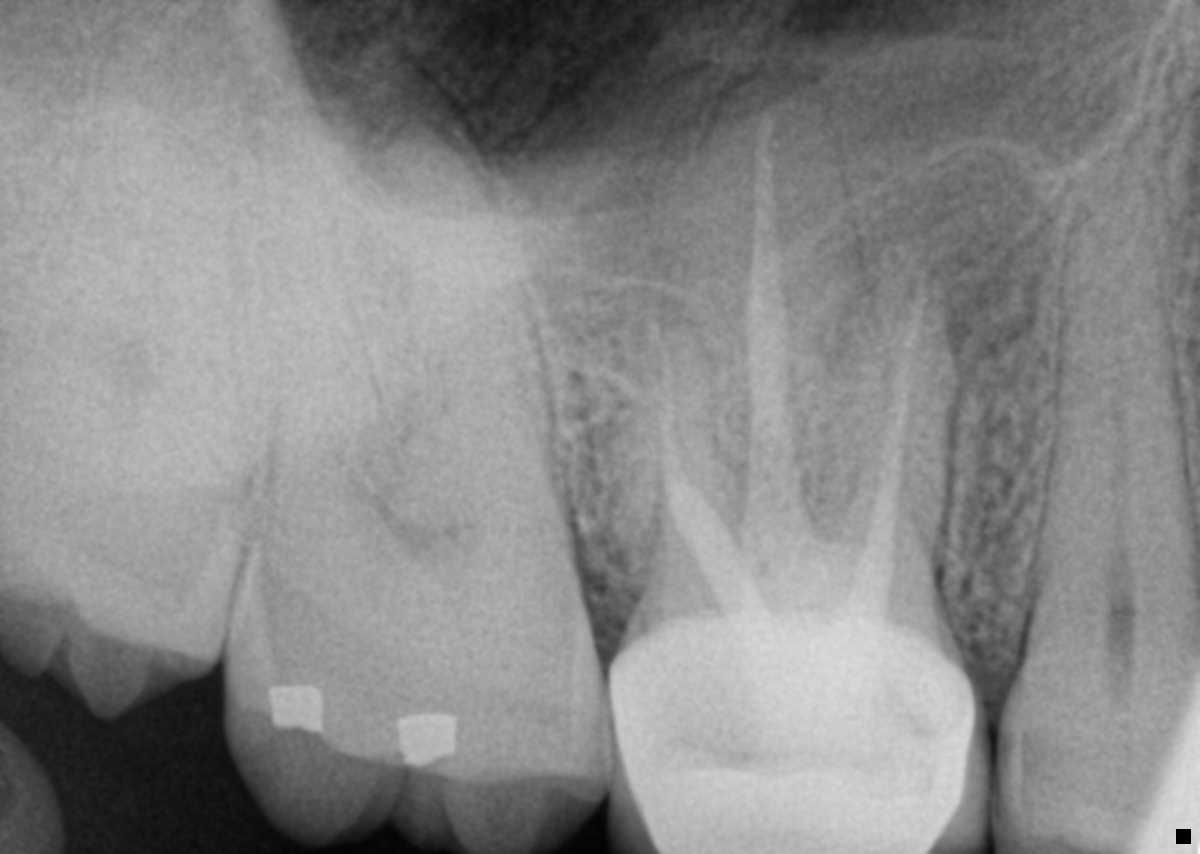Apical Lesion: (807, 149, 1054, 368)
Distal Root: (242, 129, 390, 518), (609, 319, 773, 618)
Main Canal: (1104, 261, 1137, 664)
Main Root: (12, 0, 271, 443), (1022, 164, 1200, 673)
Mesial Root: (383, 121, 552, 487), (787, 274, 952, 619)
Palatal Root: (633, 66, 934, 621), (274, 39, 564, 530)
Root Canal Filling: (742, 112, 820, 566), (848, 271, 927, 601), (657, 332, 743, 583)
